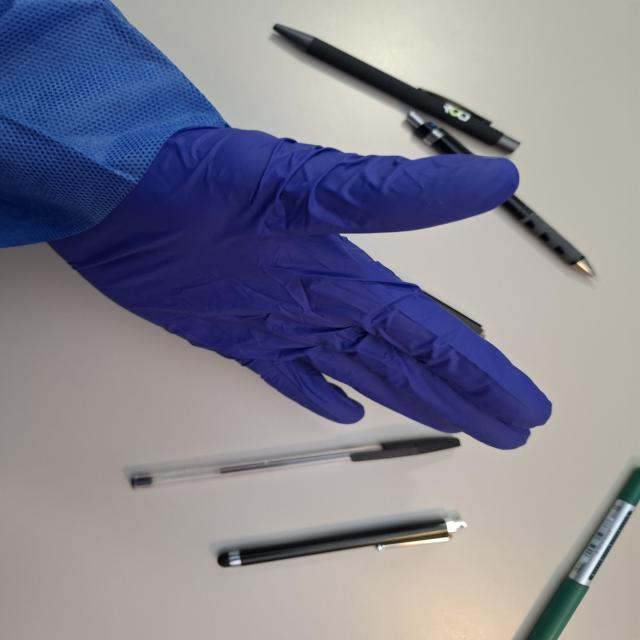glove_on: (46, 117, 559, 454)
